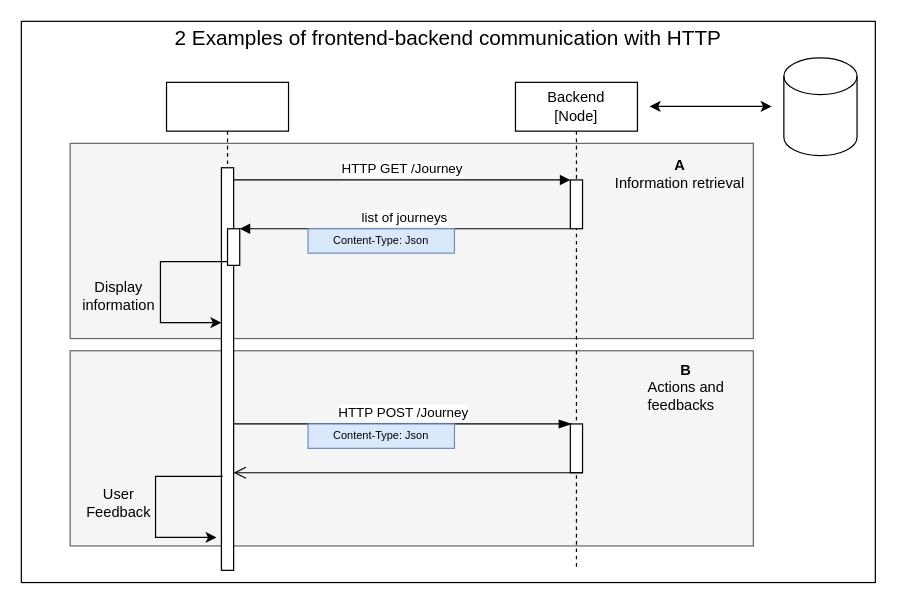
Some shapes in this 897 by 604 pixel diagram are drawn without their labels. Each missing label, with the box of its shape:
DB [Postgres]: (783, 57, 857, 156)
Frontend [Browser]: (165, 81, 289, 570)
